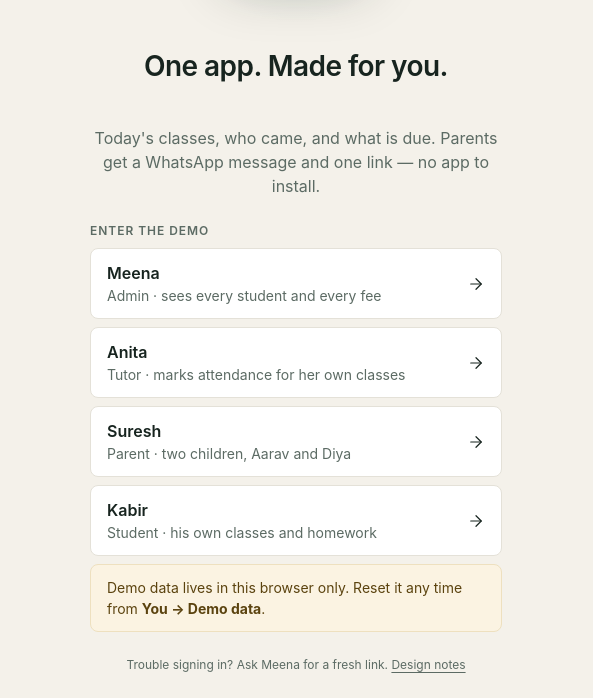
Scenario: student home › lets Kabir mark his own homework done
(page scrolled)
Click the button "Kabir Student · his own classes and homework": (127, 510) [90, 485, 502, 556]
(page scrolled)
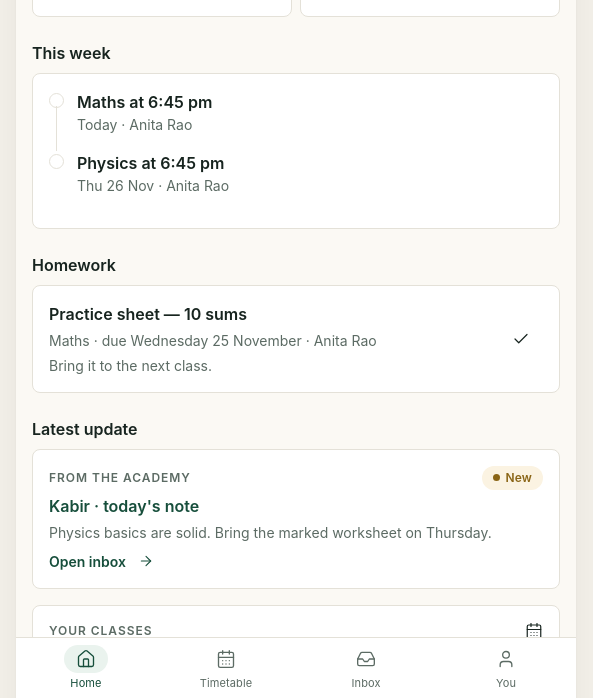
Expected: the text "Practice sheet — 10 sums" is shown, [49, 304, 247, 324]
Click the button named "Mark done": (521, 339) [499, 317, 543, 361]
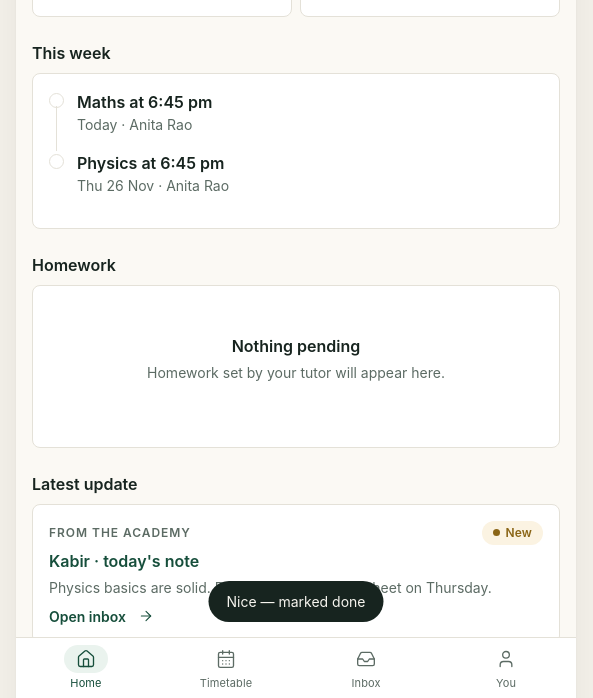
Expected: the text "Nice — marked done" is shown, [208, 581, 384, 622]
Expected: the heading "Nothing pending" is shown, [232, 336, 360, 356]
